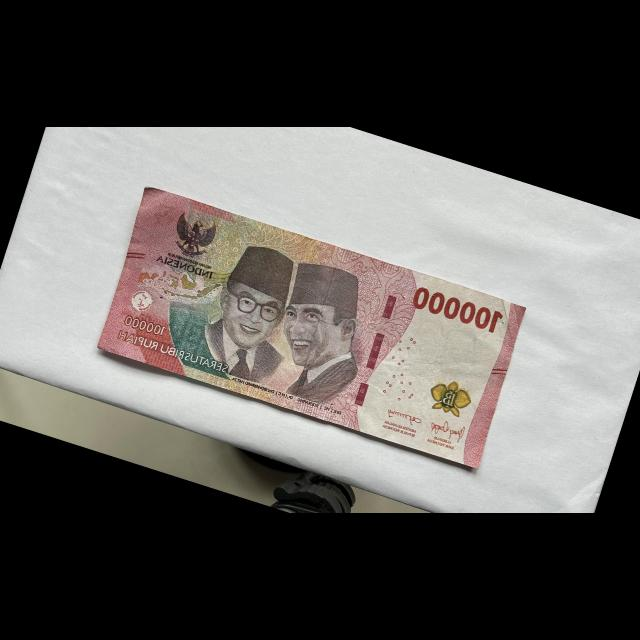Palsu-100k: (92, 183, 532, 474)
Tinta-Palsu-100k: (423, 370, 478, 423)
